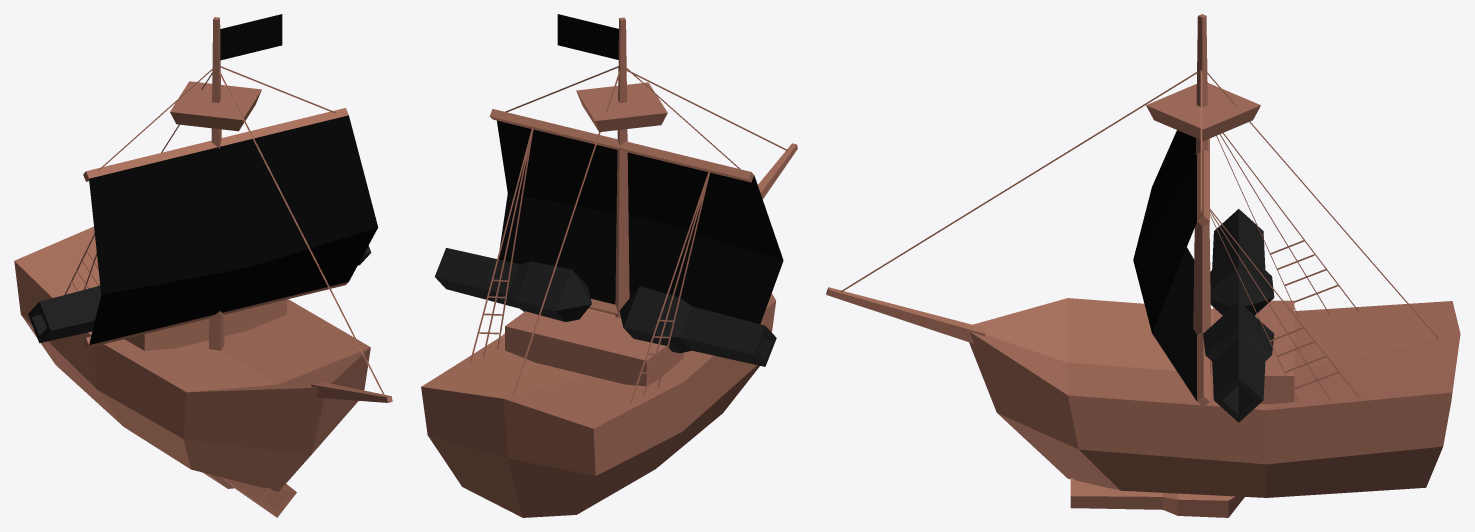
Rendered from ship.gltf.
The picture shows the model from 3 angles, left to right: view 1: azimuth 30°, elevation 25°; view 2: azimuth 150°, elevation 25°; view 3: azimuth 270°, elevation 25°; orthographic projection. The views are drawn at different scales.
Visible parts, largest first — view 1: boat, cloth, cannon.001, ropes, cannon; view 2: boat, cloth, cannon.001, cannon.002, ropes; view 3: boat, cloth, cannon.002, cannon.001, ropes, cannon.
Boxes of the visible parts, box(x1,y1,x2,y2) form: boat: box(14, 17, 392, 491); cloth: box(89, 14, 378, 345); cannon.001: box(28, 285, 101, 343); ropes: box(64, 66, 384, 395); cannon: box(204, 473, 296, 517); boat: box(421, 17, 797, 517); cloth: box(497, 14, 783, 323); cannon.001: box(619, 286, 776, 366); cannon.002: box(434, 248, 591, 321); ropes: box(469, 66, 788, 404); boat: box(826, 14, 1460, 497); cloth: box(1133, 130, 1196, 400); cannon.002: box(1203, 301, 1274, 422); cannon.001: box(1210, 209, 1274, 315); ropes: box(840, 70, 1438, 403); cannon: box(1070, 477, 1244, 517).
Bounding box in the file's own units: 2.49 × 3.44 × 3.94.
